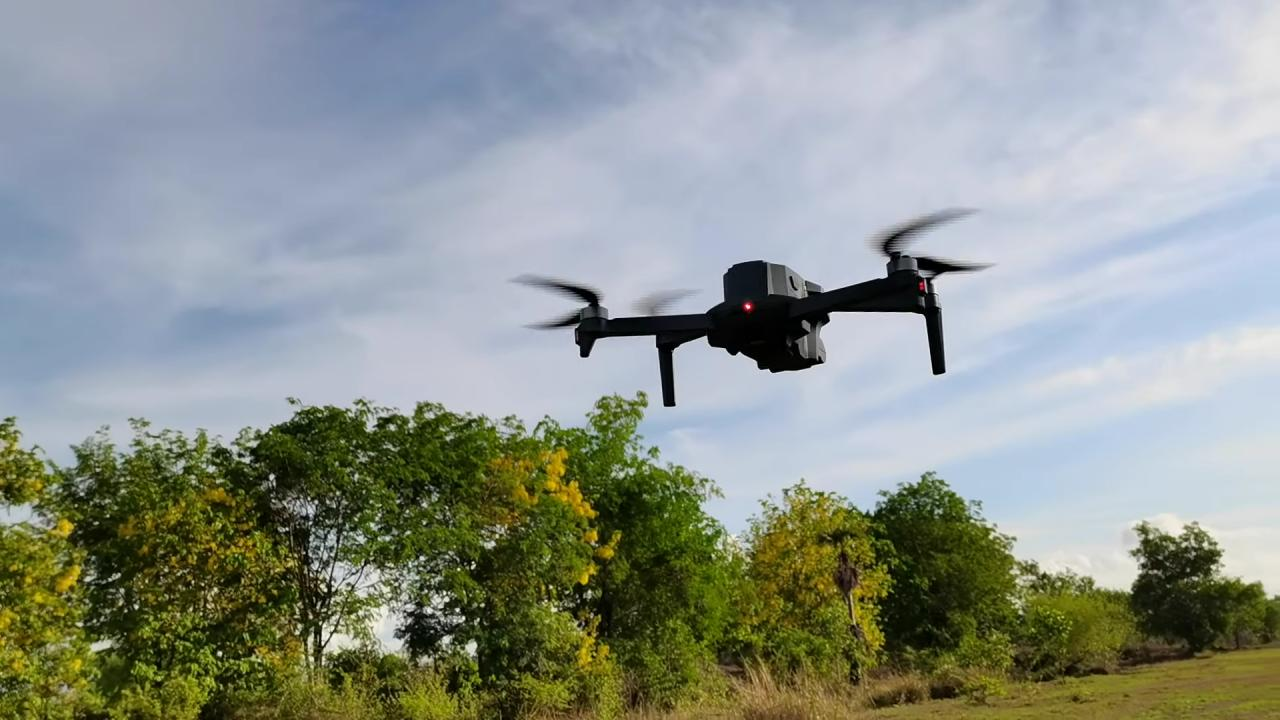Drone: (494, 194, 1024, 424)
